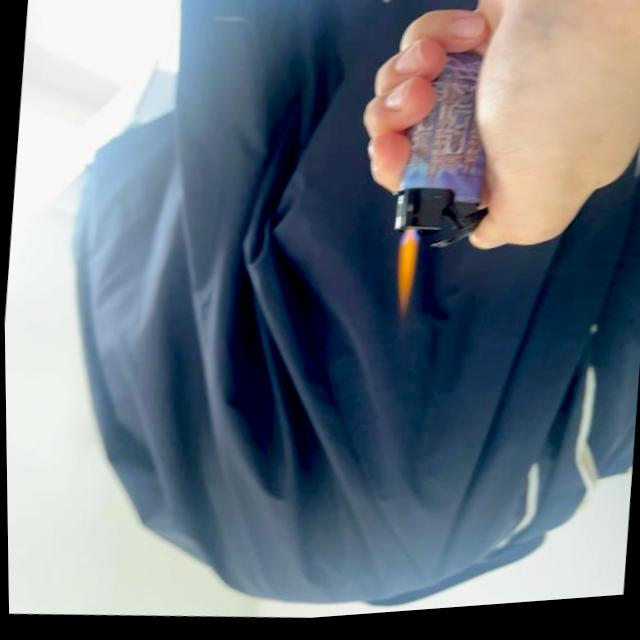Fire: (391, 236, 420, 316)
